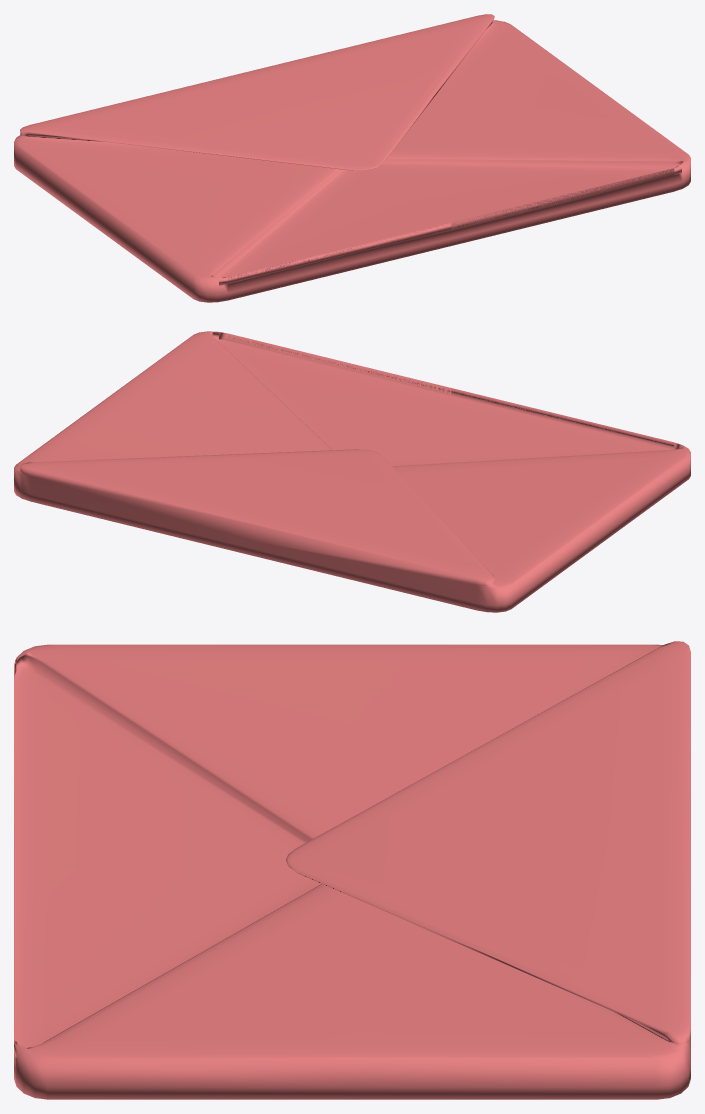
Rendered from mail.glb.
3 views of the same model, one above another, from view 1: azimuth 30°, elevation 25°; view 2: azimuth 150°, elevation 25°; view 3: azimuth 270°, elevation 25° (orthographic). The views are drawn at different scales.
Visible parts, largest first — view 1: Cube.005; view 2: Cube.005; view 3: Cube.005.
Boxes of the visible parts, x1=… form: Cube.005: x1=14, y1=14, x2=690, y2=302; Cube.005: x1=14, y1=331, x2=690, y2=612; Cube.005: x1=14, y1=641, x2=690, y2=1099.
Size of the model in its own units: 7.15 by 0.4779 by 4.94.
